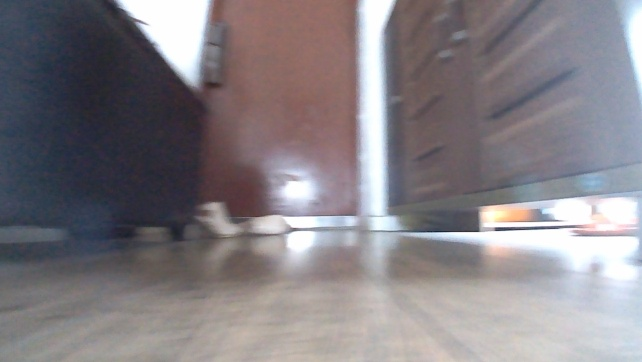door_anno: (186, 0, 363, 220)
